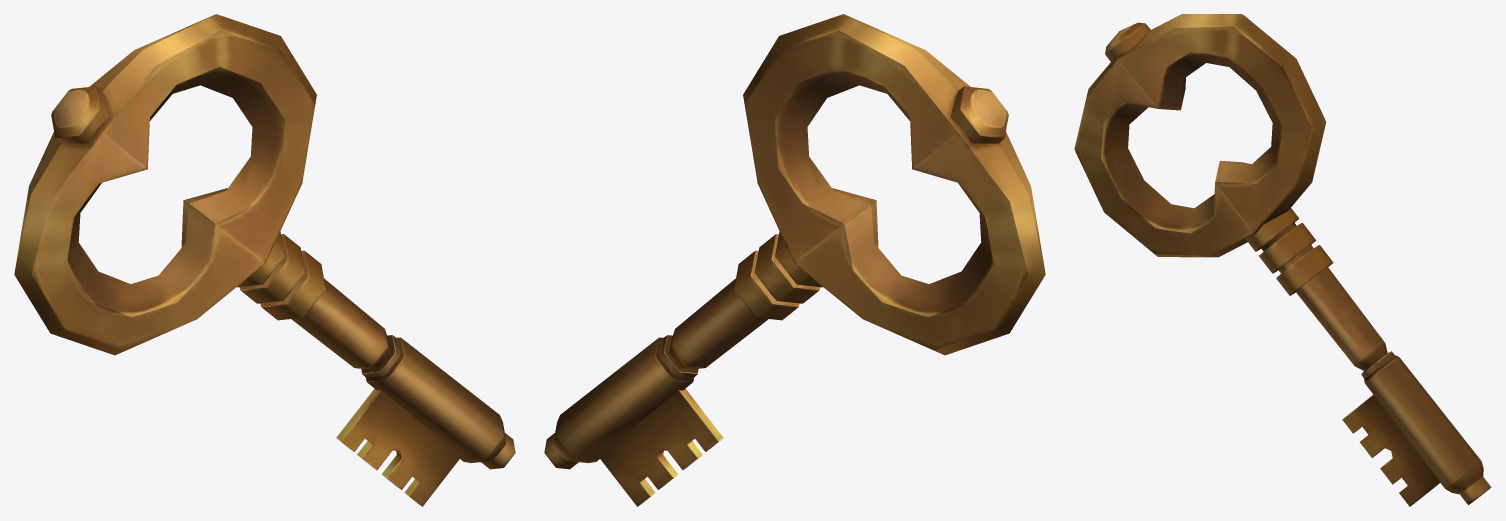
The model's file is 46_Gold key.FBX.
3 renders of one model, left to right at view 1: azimuth 30°, elevation 25°; view 2: azimuth 150°, elevation 25°; view 3: azimuth 330°, elevation 25°, orthographic. The views are drawn at different scales.
Visible parts, largest first — view 1: 46_gold key; view 2: 46_gold key; view 3: 46_gold key.
Boxes of the visible parts, <box> form: 46_gold key: <box>14,14,515,506</box>; 46_gold key: <box>544,14,1045,506</box>; 46_gold key: <box>1074,14,1491,506</box>.
Size of the model in its own units: 41.09 by 42.56 by 5.17.
